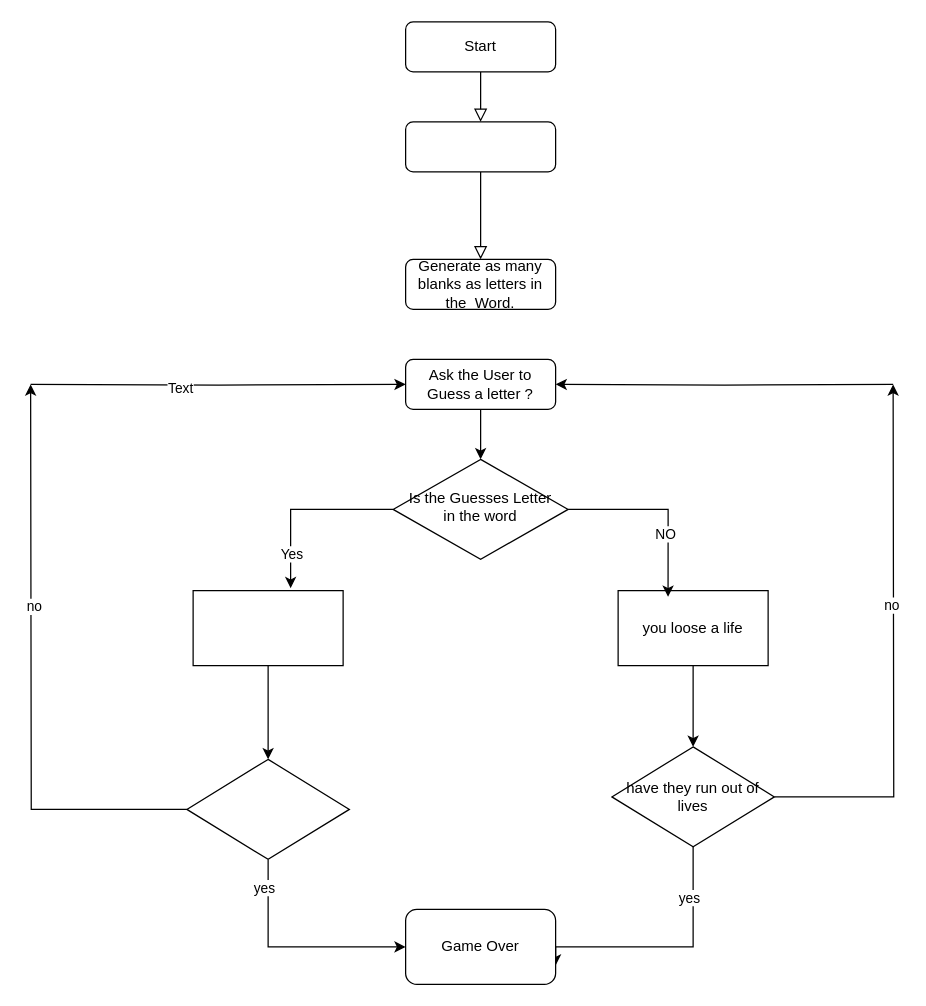
The diagram is 926 pixels wide and 1006 high, and some of its shapes have lost their labels. Each missing label, with the centre of its shape:
"are all the blanks filled" goes at [267,808].
"Generate a Random Word" goes at [480,146].
"Replace blank with letter" goes at [267,627].
